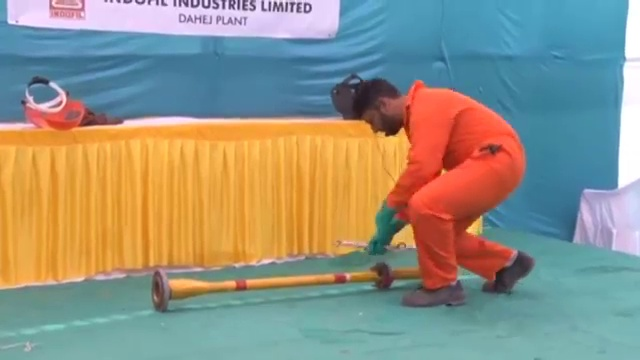helmet_off: (352, 78, 406, 137)
person: (346, 71, 536, 310)
